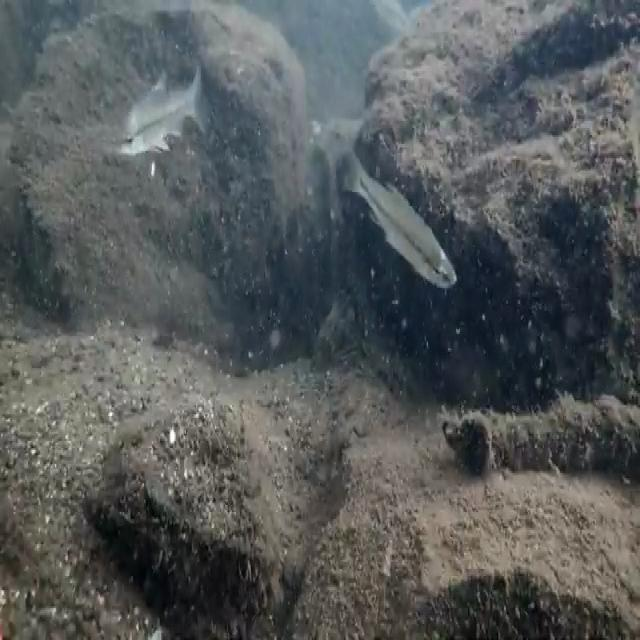Cakil Baligi: (339, 148, 458, 295), (112, 65, 211, 165)
